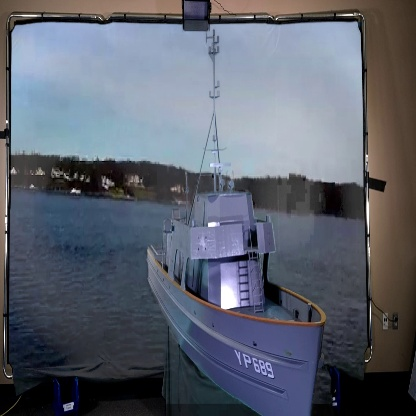YP689: (147, 30, 325, 416)
